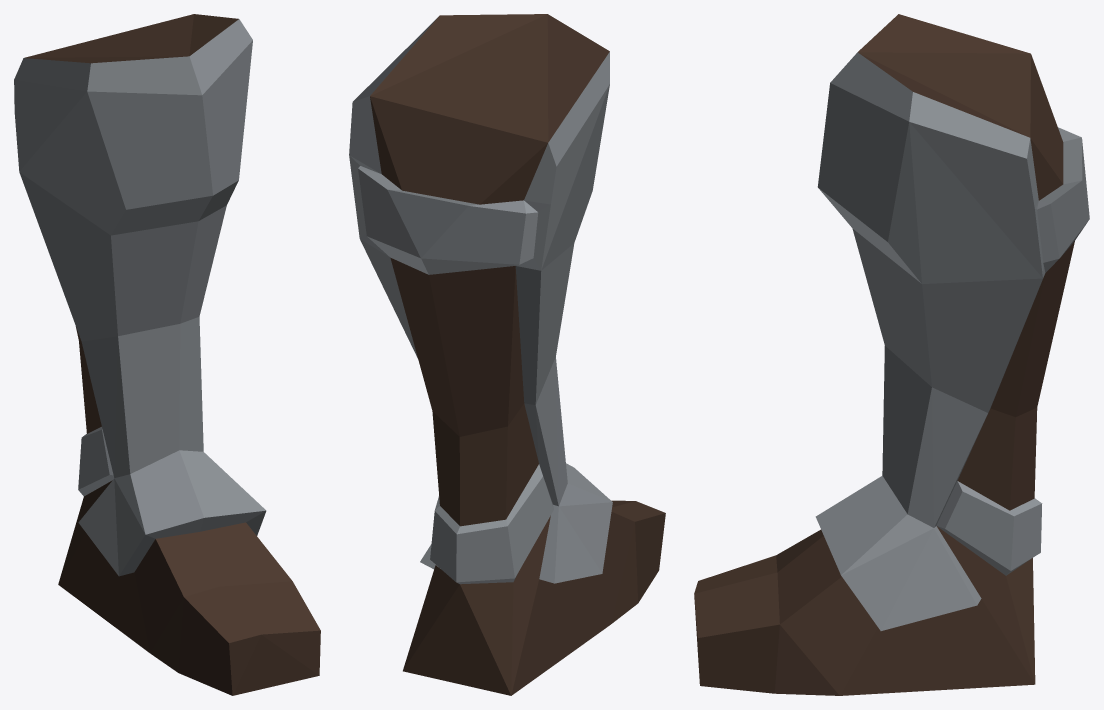
File: Chr_LegLeft_Female_15_Static.fbx
3 views of the same model, side by side, from view 1: azimuth 30°, elevation 25°; view 2: azimuth 150°, elevation 25°; view 3: azimuth 270°, elevation 25° (orthographic). The views are drawn at different scales.
Visible parts, largest first — view 1: Chr_LegLeft_Female_15_Static; view 2: Chr_LegLeft_Female_15_Static; view 3: Chr_LegLeft_Female_15_Static.
Boxes of the visible parts, x1,y1,x2,y2 form: Chr_LegLeft_Female_15_Static: [14, 14, 320, 695]; Chr_LegLeft_Female_15_Static: [349, 14, 665, 695]; Chr_LegLeft_Female_15_Static: [694, 14, 1089, 695].
Size of the model in its own units: 0.1444 by 0.4046 by 0.2396.
